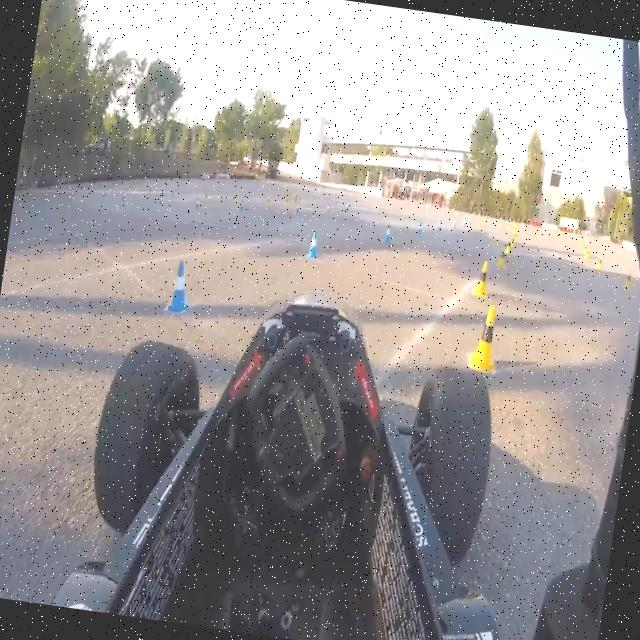blue_cone: (160, 255, 197, 322), (304, 224, 324, 264), (382, 220, 394, 248), (416, 218, 424, 240), (239, 199, 246, 216), (194, 195, 201, 212), (158, 192, 164, 208), (436, 220, 443, 233)
yellow_cone: (470, 303, 502, 375), (470, 260, 494, 305), (496, 246, 508, 270), (623, 268, 632, 292), (596, 254, 604, 272), (505, 239, 513, 256), (264, 194, 272, 209), (584, 246, 590, 258)
